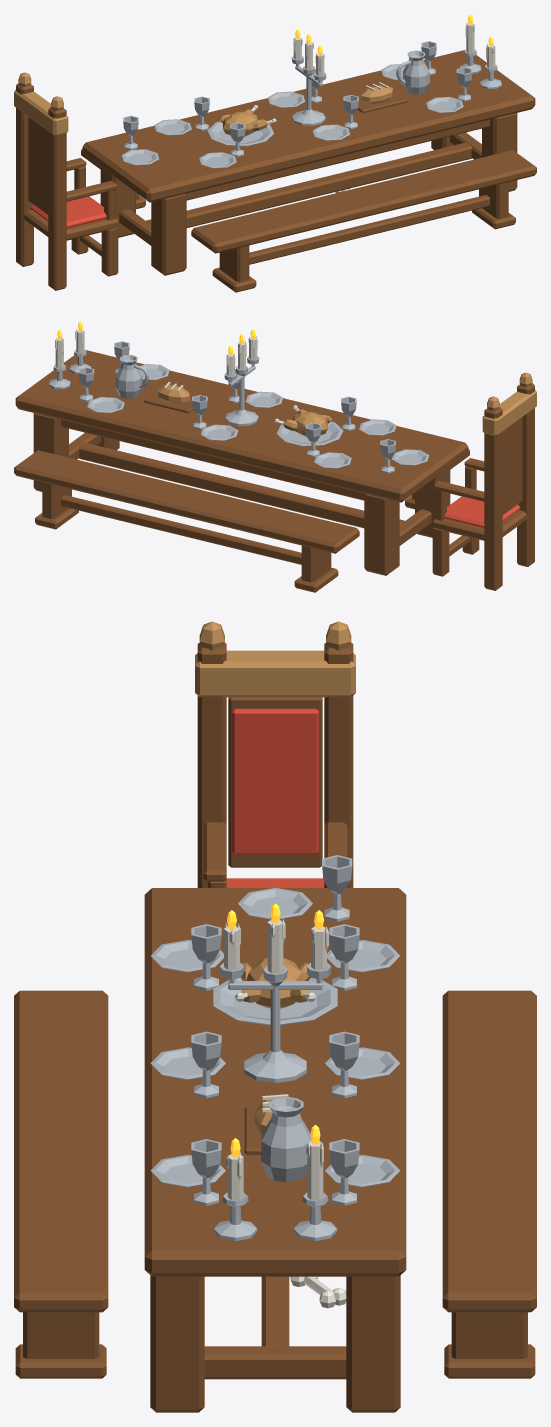
The model's file is medieval-feast-table.glb.
3 renders of one model, top to bottom at view 1: azimuth 30°, elevation 25°; view 2: azimuth 150°, elevation 25°; view 3: azimuth 270°, elevation 25°, orthographic. The views are drawn at different scales.
Visible parts, largest first — view 1: Table_Top, Bench_South_Seat, Table_Stretcher, Chair_BackPost_-0.8, Bench_South_Stretcher, Table_Leg_3, Table_Apron_R, Chair_BackPost_0.8, Chair_BackPanel, Table_Leg_1, Chair_Crest, Bench_South (+26 smaller); view 2: Table_Top, Bench_North_Seat, Table_Stretcher, Chair_BackPost_0.8, Bench_North_Stretcher, Table_Leg_2, Table_Apron_L, Chair_BackPost_-0.8, Chair_BackPanel, Table_Leg_0, Chair_Crest, Bench_North (+28 smaller); view 3: Table_Top, Bench_North_Seat, Bench_South_Seat, Chair_BackCushion, Table_Leg_0, Table_Leg_1, Chair_Crest, Bench_North, Bench_South, Table_CrossBeam_E, Chair_BackPost_-0.8, Chair_BackPost_0.8 (+24 smaller).
Boxes of the visible parts, <box> form: Table_Top: <box>82,50,535,202</box>; Bench_South_Seat: <box>191,150,536,253</box>; Table_Stretcher: <box>146,142,471,227</box>; Chair_BackPost_-0.8: <box>48,107,66,290</box>; Bench_South_Stretcher: <box>249,195,489,264</box>; Table_Leg_3: <box>151,193,186,275</box>; Table_Apron_R: <box>186,119,489,200</box>; Chair_BackPost_0.8: <box>16,83,33,266</box>; Chair_BackPanel: <box>28,117,48,214</box>; Table_Leg_1: <box>482,113,517,191</box>; Chair_Crest: <box>14,90,68,136</box>; Bench_South: <box>472,182,515,229</box>; Table_Top: <box>15,350,468,502</box>; Bench_North_Seat: <box>14,450,359,553</box>; Table_Stretcher: <box>79,442,404,528</box>; Chair_BackPost_0.8: <box>484,407,502,590</box>; Bench_North_Stretcher: <box>61,495,301,564</box>; Table_Leg_2: <box>364,493,399,575</box>; Table_Apron_L: <box>61,419,364,500</box>; Chair_BackPost_-0.8: <box>517,383,534,566</box>; Chair_BackPanel: <box>502,417,522,514</box>; Table_Leg_0: <box>33,413,68,491</box>; Chair_Crest: <box>482,390,536,436</box>; Bench_North: <box>35,482,78,529</box>; Table_Top: <box>144,888,406,1276</box>; Bench_North_Seat: <box>442,990,536,1312</box>; Bench_South_Seat: <box>14,990,108,1312</box>; Chair_BackCushion: <box>232,708,318,854</box>; Table_Leg_0: <box>346,1275,400,1412</box>; Table_Leg_1: <box>150,1275,204,1412</box>; Chair_Crest: <box>195,650,355,697</box>; Bench_North: <box>444,1312,535,1378</box>; Bench_South: <box>15,1312,106,1378</box>; Table_CrossBeam_E: <box>204,1346,346,1379</box>; Chair_BackPost_-0.8: <box>197,642,226,887</box>; Chair_BackPost_0.8: <box>324,642,353,887</box>.
Bounding box in the file's own units: 14.5 × 5.65 × 7.2.
